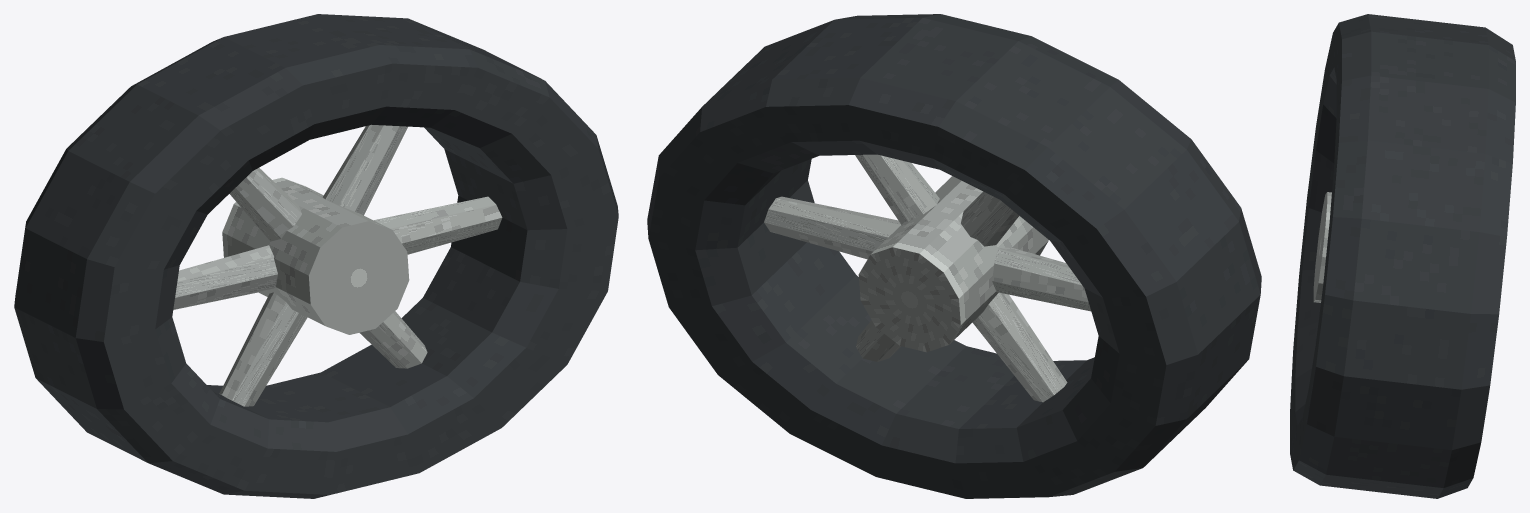
Rendered from deflated_wheel_slick.glb.
3 views of the same model, side by side, from view 1: azimuth 30°, elevation 25°; view 2: azimuth 150°, elevation 25°; view 3: azimuth 270°, elevation 25° (orthographic). The views are drawn at different scales.
Visible parts, largest first — view 1: block_wheel cross section, block_radial spoke (×6), block_wheel hub; view 2: block_wheel cross section, block_radial spoke (×6), block_wheel hub; view 3: block_wheel cross section, block_wheel hub.
Boxes of the visible parts, <box> form: block_wheel cross section: <box>14,14,618,498</box>; block_radial spoke (×6): <box>173,124,502,406</box>; block_wheel hub: <box>222,177,409,334</box>; block_wheel cross section: <box>647,14,1261,498</box>; block_radial spoke (×6): <box>764,154,1090,402</box>; block_wheel hub: <box>858,176,1048,352</box>; block_wheel cross section: <box>1290,14,1515,498</box>; block_wheel hub: <box>1313,192,1331,302</box>.
Bounding box in the file's own units: 0.407 × 0.3044 × 0.1536.
1 material, 1 textured.
